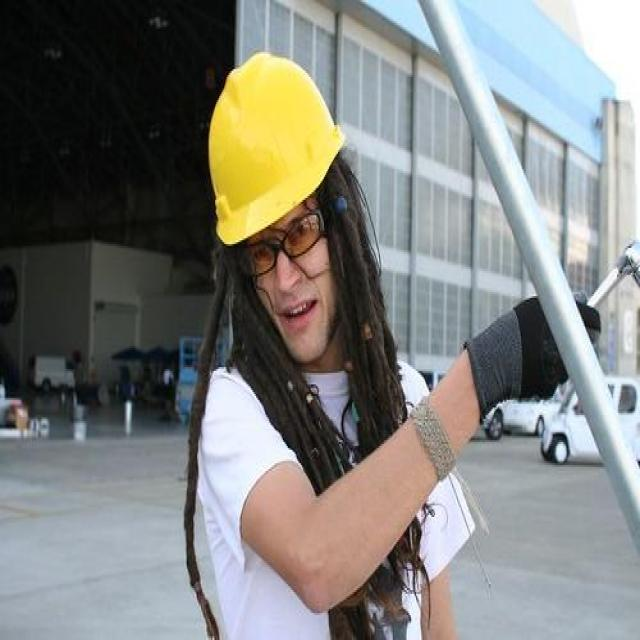Safety-Helmet: (202, 46, 356, 248)
